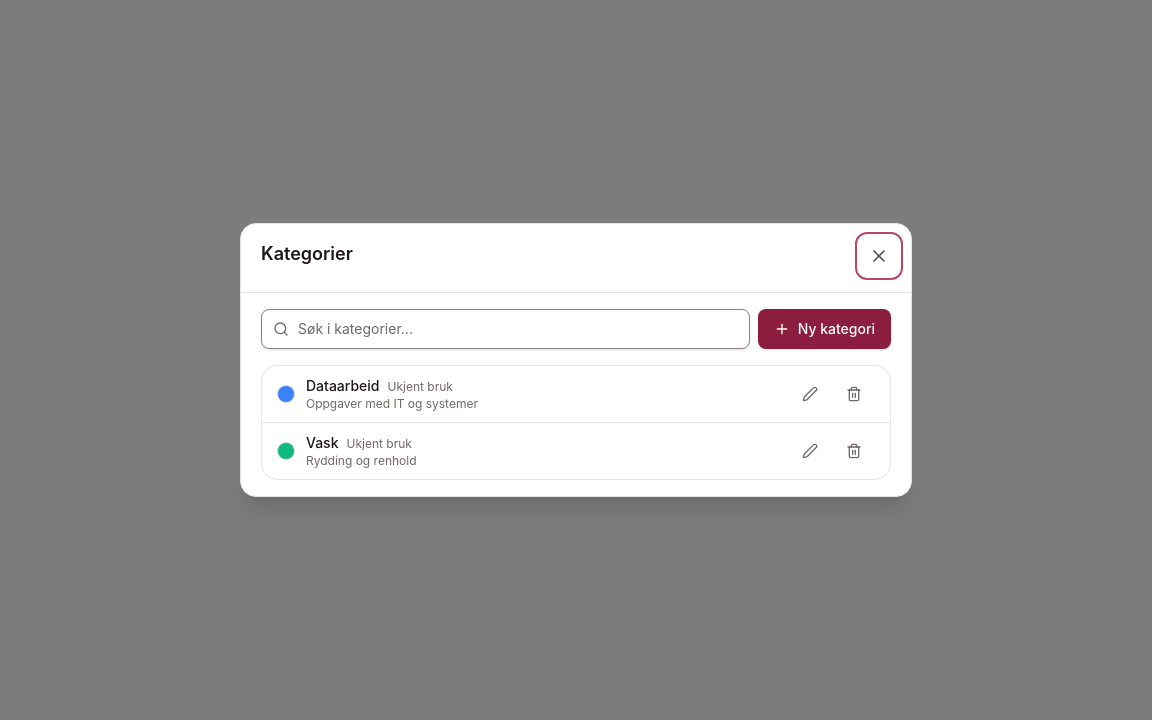
Scenario: CategoryManagement › blocks deleting when the usage lookup fails
Expected: the text "Ukjent bruk" is shown 2 times, [388, 379, 453, 395]; [346, 436, 412, 452]
Click the button named "Slett Vask" at [854, 451], box [834, 431, 874, 471]
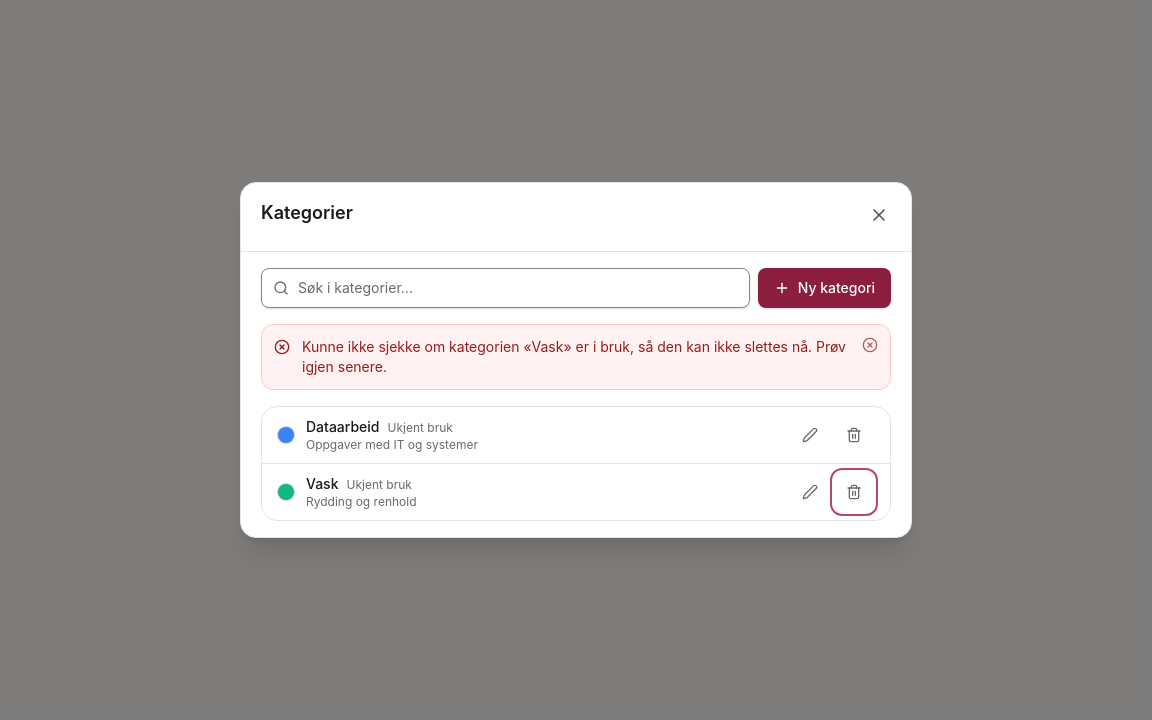
Result: the text "Kunne ikke sjekke om kategorien «Vask» er i bruk" is shown at [302, 338, 846, 375]
